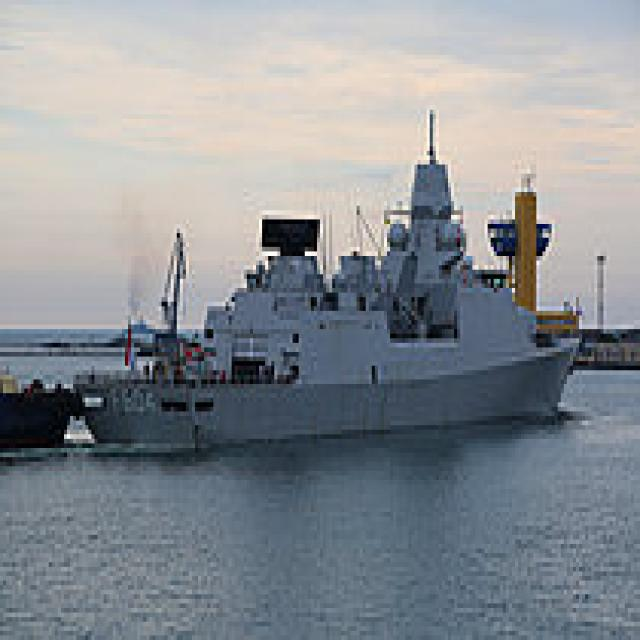Warship: (67, 100, 579, 452)
